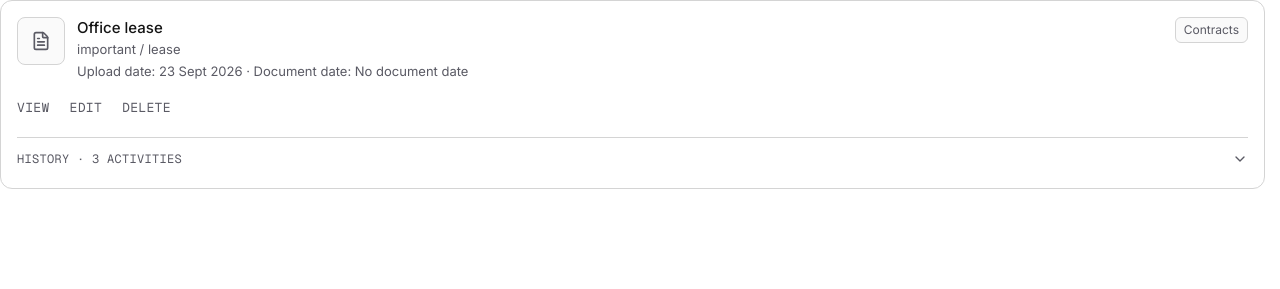
Test: History replaces the AI trace in the card's expandable panel › opens in place and lists who did what and when, oldest first, in plain language with the company timezone
Click the button "History · 3 activities": (100, 159) [17,146,1248,172]
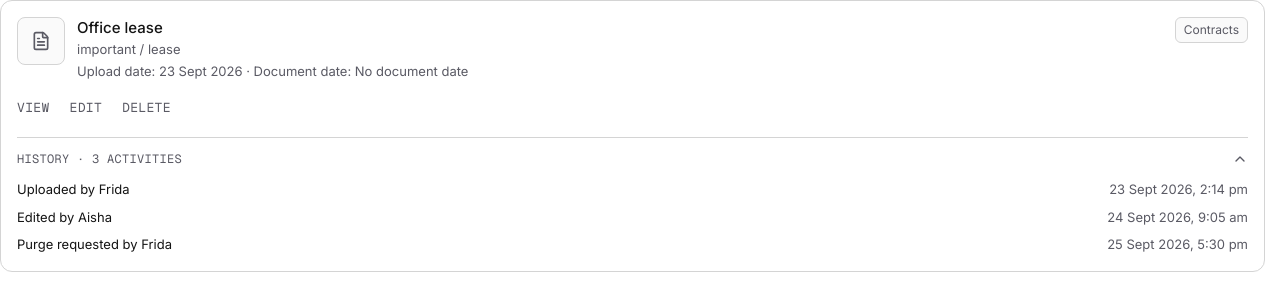
Check: the button "History · 3 activities" is expanded, box [17,146,1248,172]
Check: the list items read "Uploaded by Frida23 Sept 2026, 2:14 pm", "Edited by Aisha24 Sept 2026, 9:05 am", "Purge requested by Frida25 Sept 2026, 5:30 pm", in this order, box [17,180,1248,200]; [17,208,1248,227]; [17,235,1248,255]
